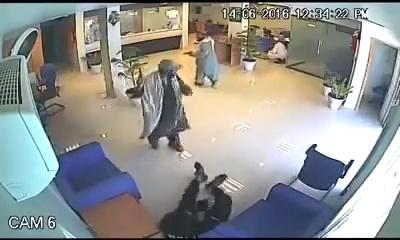weapon: (134, 66, 144, 81), (181, 49, 193, 55)
